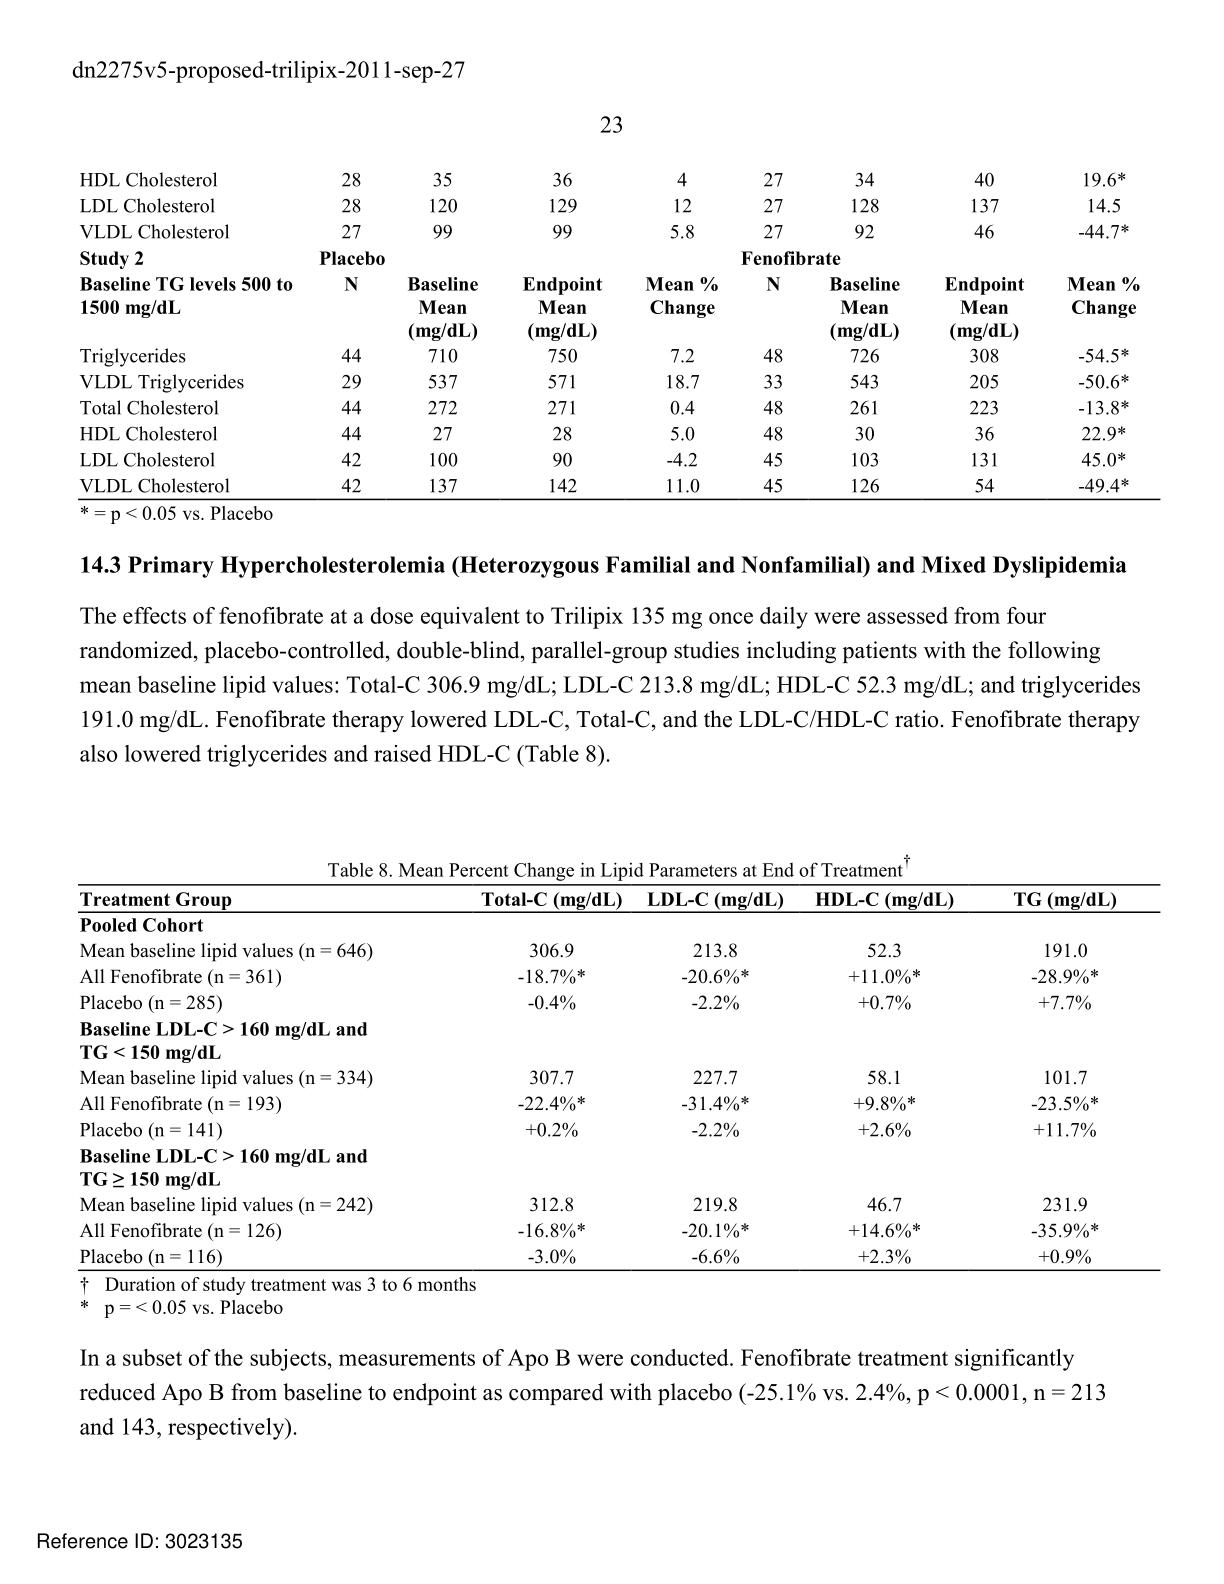nolines: (73, 165, 1155, 498)
partial_lined: (75, 882, 1165, 1274)
